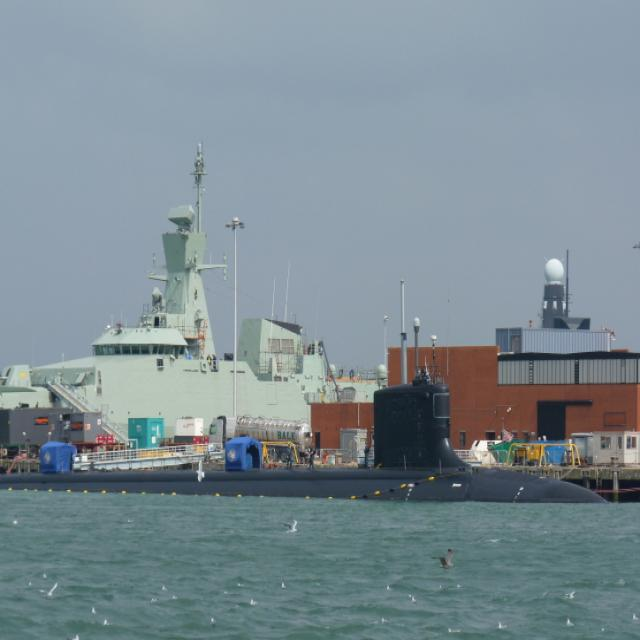submarine: (1, 365, 634, 491)
